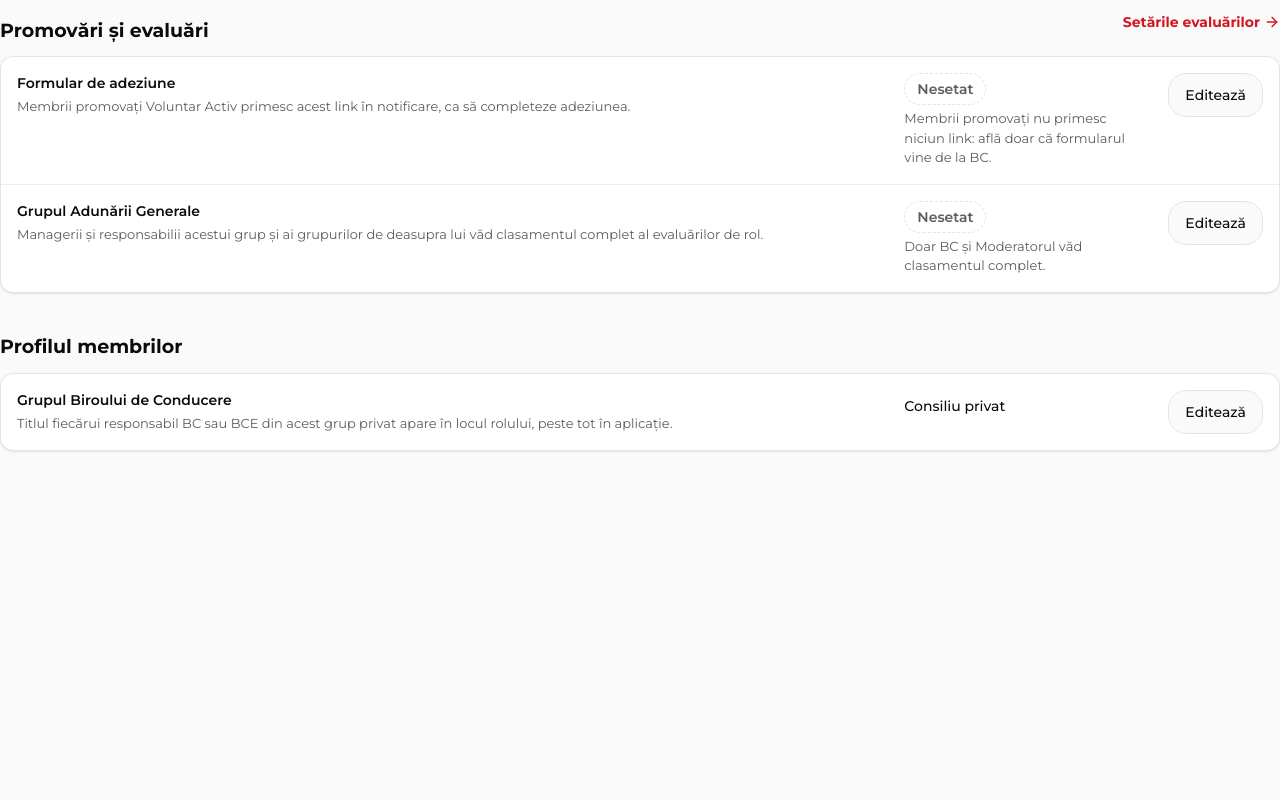
Test: points the board setting at an active Private Group and clears it (#824)
The width and height of the screenshot is (1280, 800).
Expected: the text "Consiliu privat" is shown, [904,396,1005,414]
Click the button with aria-label "Editează Grupul Biroului de Conducere".
click(1216, 412)  # box [1168,390,1263,434]
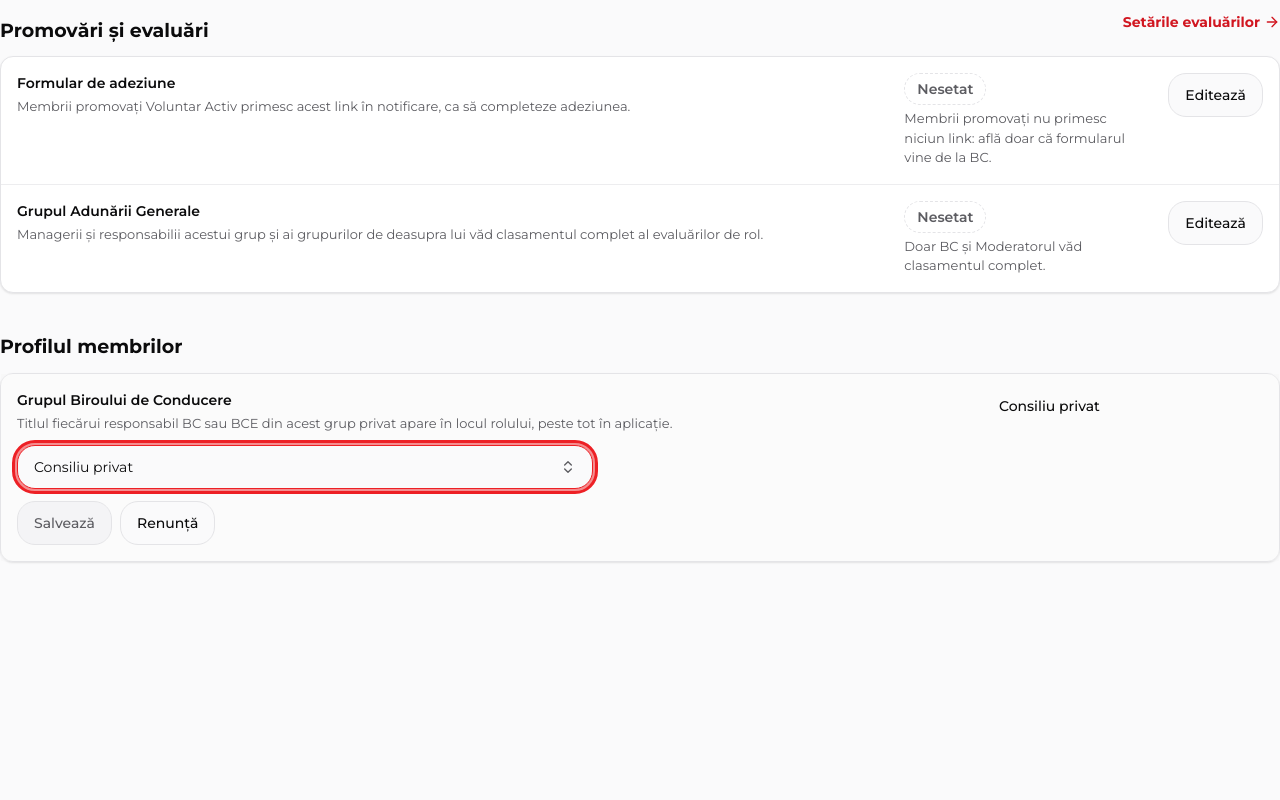
Result: the dropdown named "Grupul Biroului de Conducere" reads "Consiliu privat"
Click the dropdown named "Grupul Biroului de Conducere".
click(84, 467)  # box [17,445,593,489]
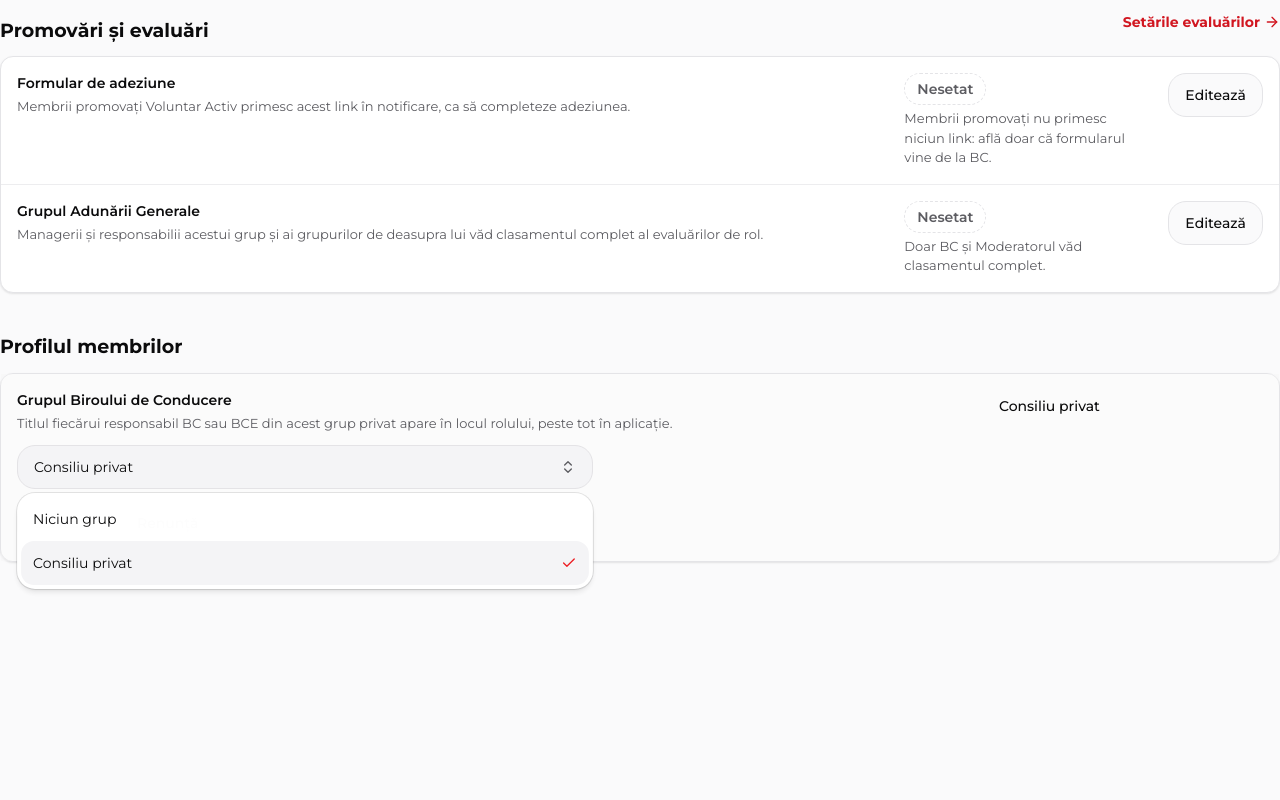
Press Escape
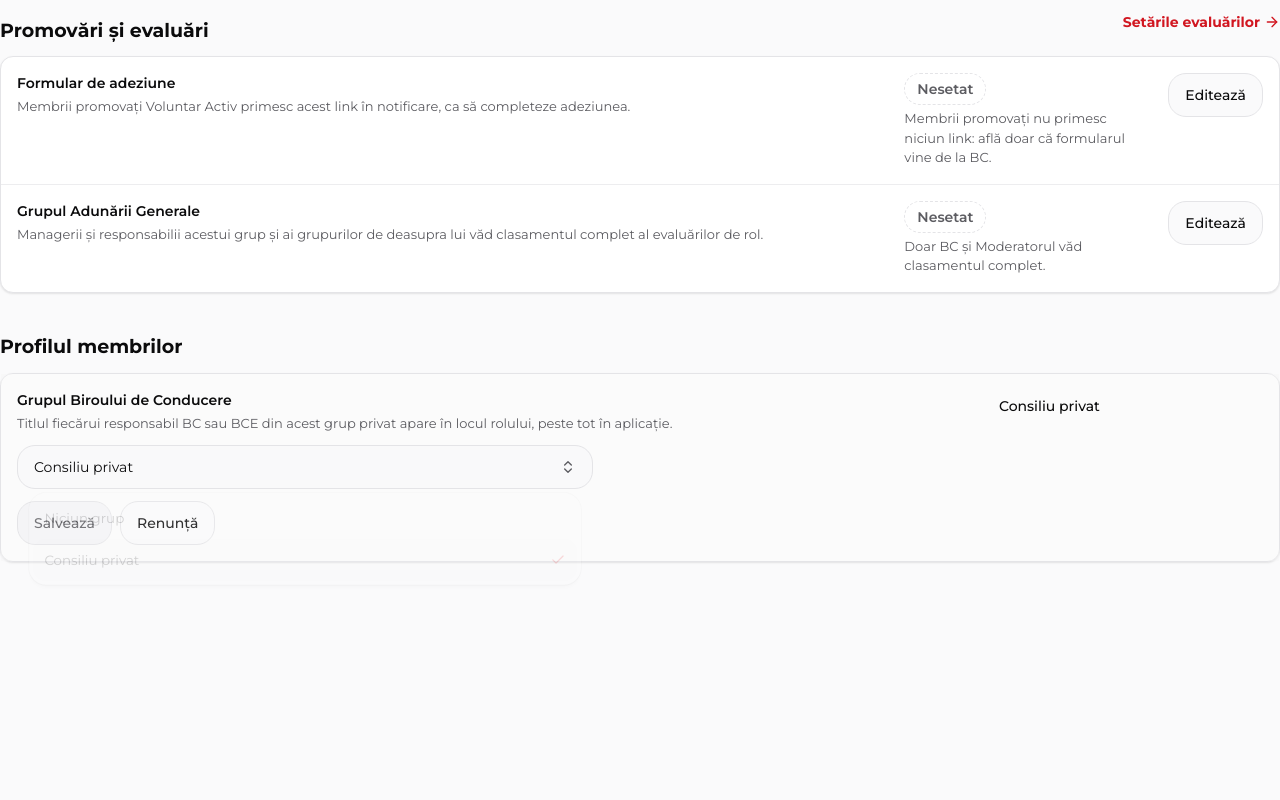
Click the dropdown named "Grupul Biroului de Conducere".
click(84, 467)  # box [17,445,593,489]
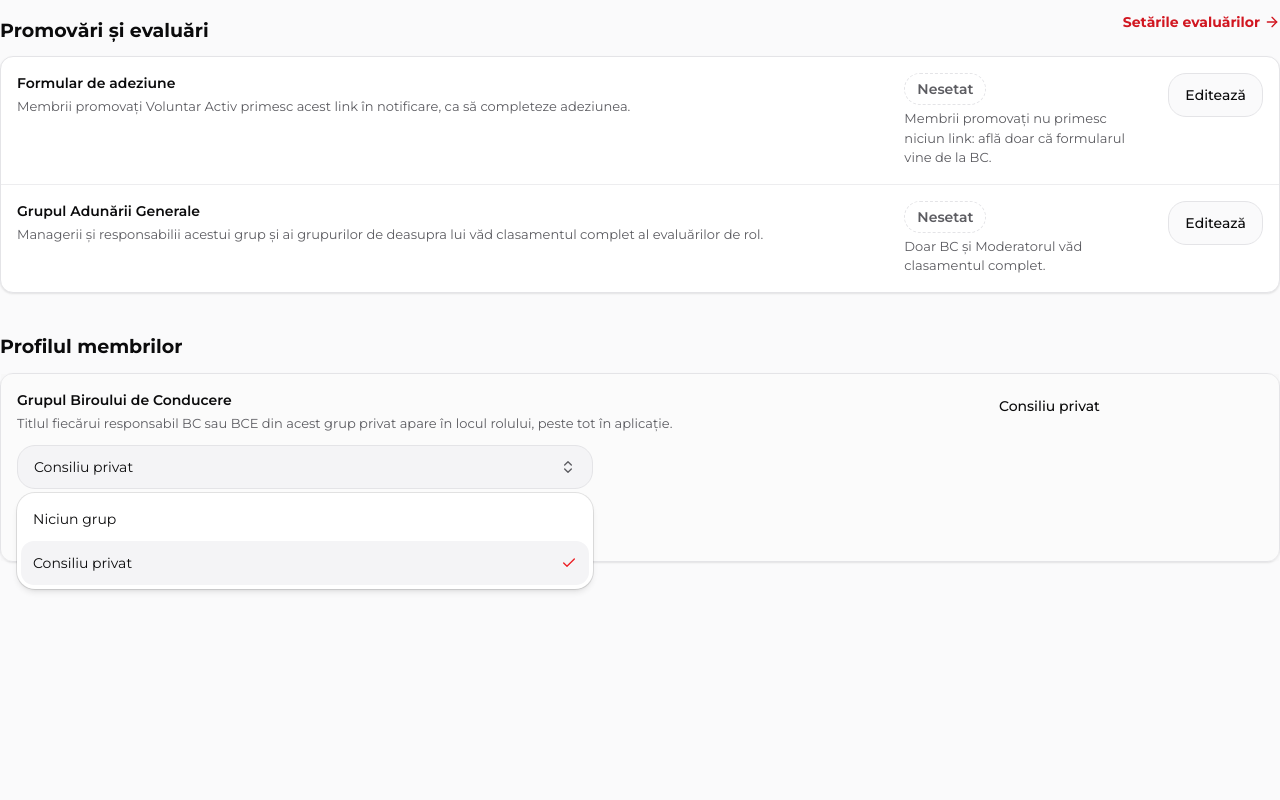
Click the option "Niciun grup".
click(75, 519)  # box [33,510,116,528]
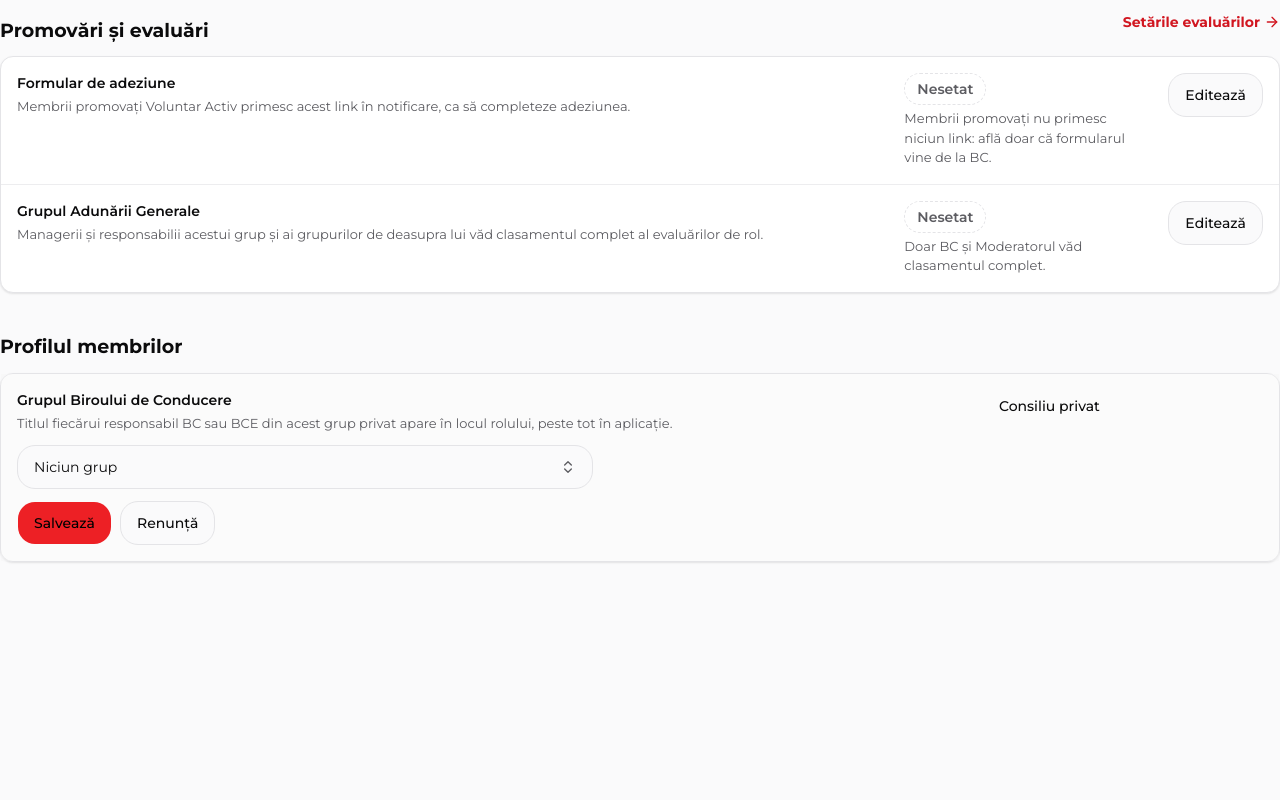
Click the button "Salvează".
click(64, 523)  # box [17,501,112,545]
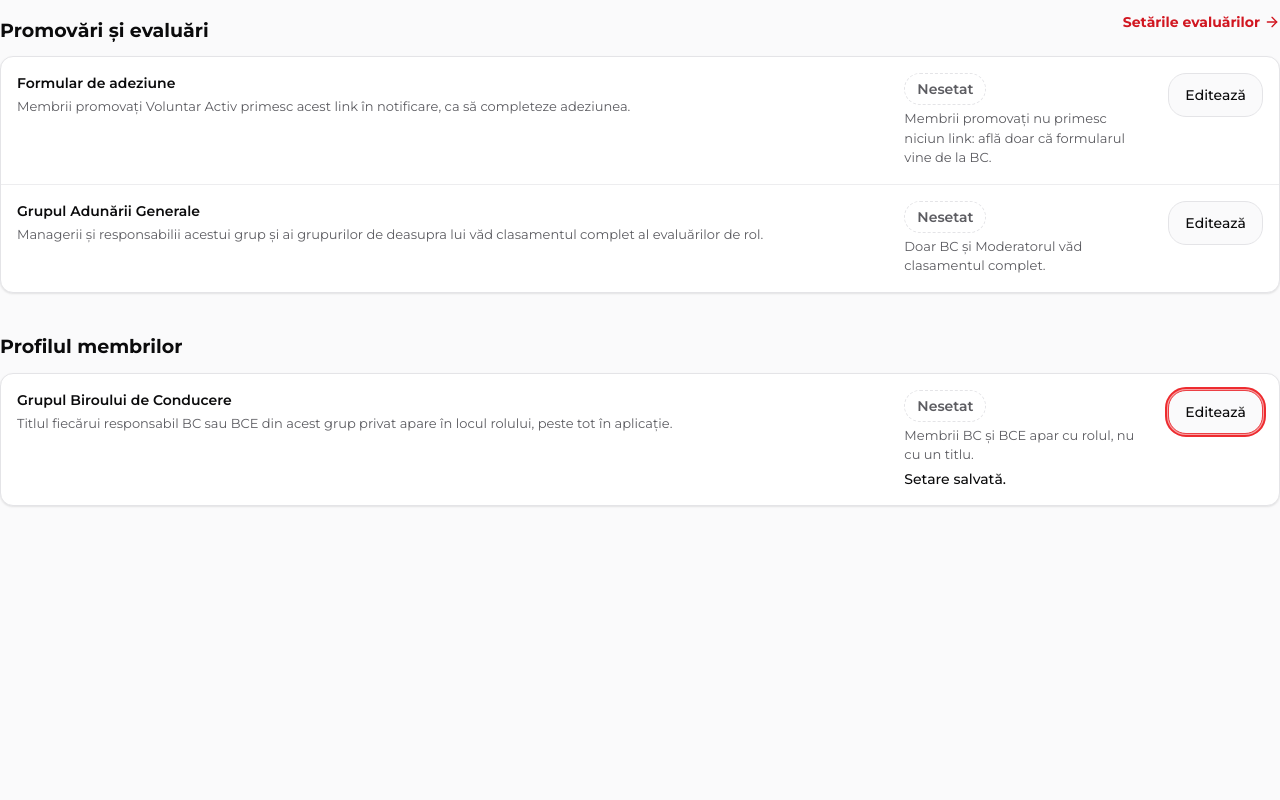
Result: the message reads "Setare salvată." at [904,470,1006,488]
Result: the text "Nesetat" in the row of "Grupul Biroului de Conducere" is shown at [917,396,974,414]
Result: the text "Membrii BC și BCE apar cu rolul, nu cu un titlu." is shown at [904,426,1144,464]
